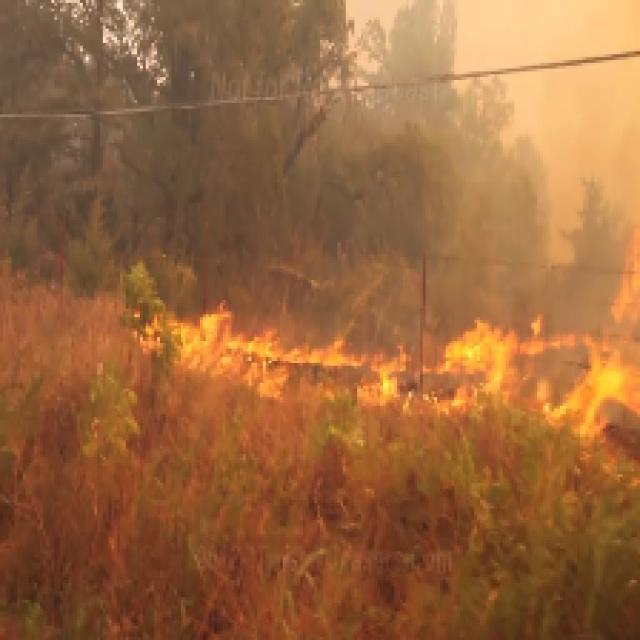Fire: (123, 225, 640, 518)
Smoke: (325, 0, 640, 288)
